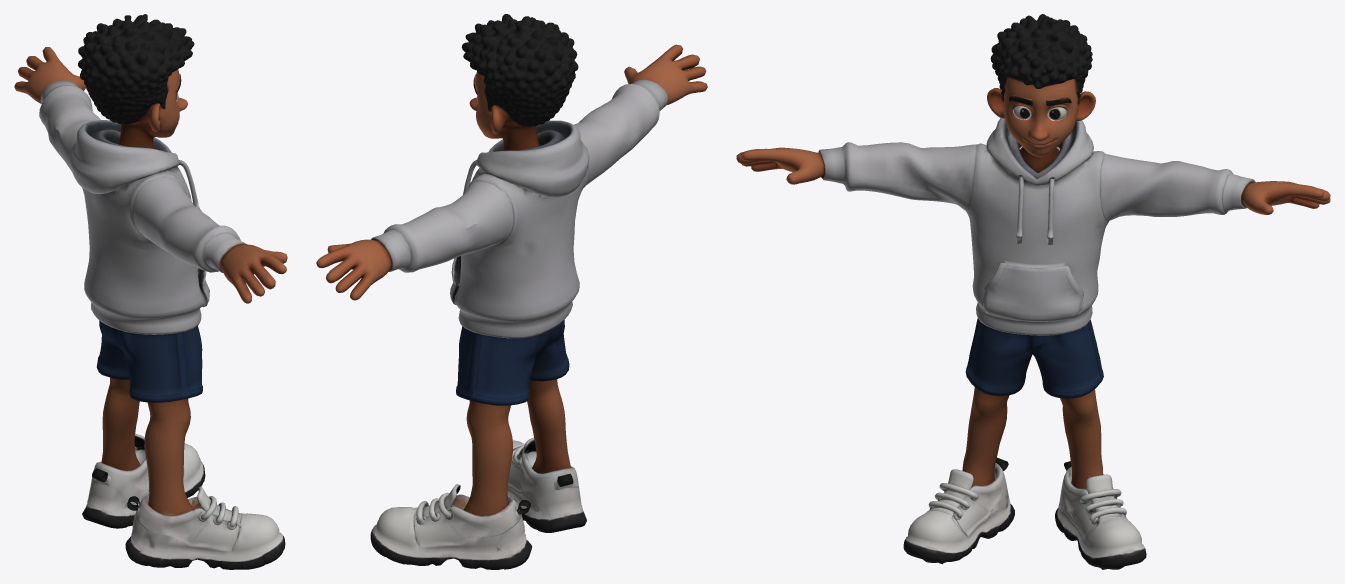
3 views of the same model, side by side, from view 1: azimuth 30°, elevation 25°; view 2: azimuth 150°, elevation 25°; view 3: azimuth 270°, elevation 25° (orthographic). The views are drawn at different scales.
Visible parts, largest first — view 1: tripo_node_60a8ab09-de02-43c8-962c-7decc457fe5c; view 2: tripo_node_60a8ab09-de02-43c8-962c-7decc457fe5c; view 3: tripo_node_60a8ab09-de02-43c8-962c-7decc457fe5c.
Part boxes in pixels (x1,y1,x2,y2): tripo_node_60a8ab09-de02-43c8-962c-7decc457fe5c: (14,14,287,569); tripo_node_60a8ab09-de02-43c8-962c-7decc457fe5c: (316,14,707,569); tripo_node_60a8ab09-de02-43c8-962c-7decc457fe5c: (736,14,1330,569).
Bounding box in the file's own units: 0.3091 × 0.939 × 0.9995.
Materials: 1 (1 with a texture image).
